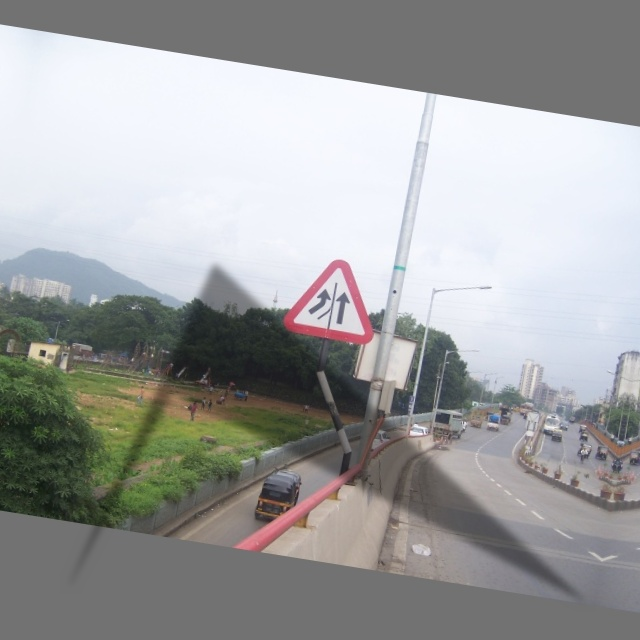Merge_Traffic_Ahead: (276, 242, 383, 353)
